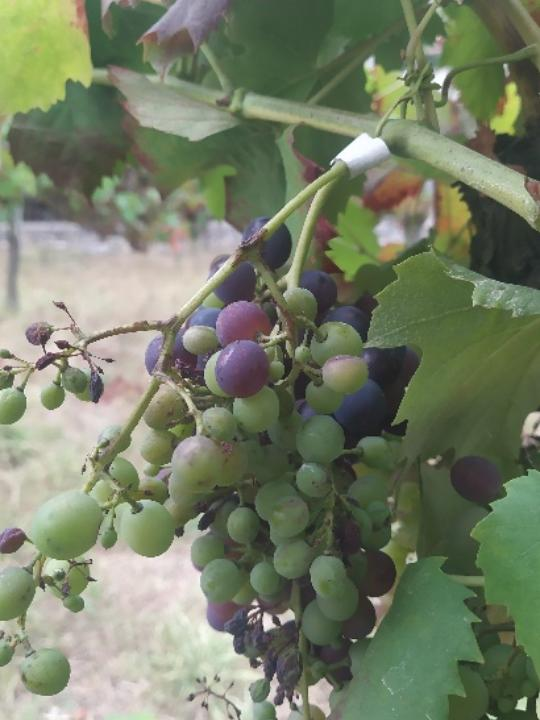grape: (0, 213, 403, 720)
